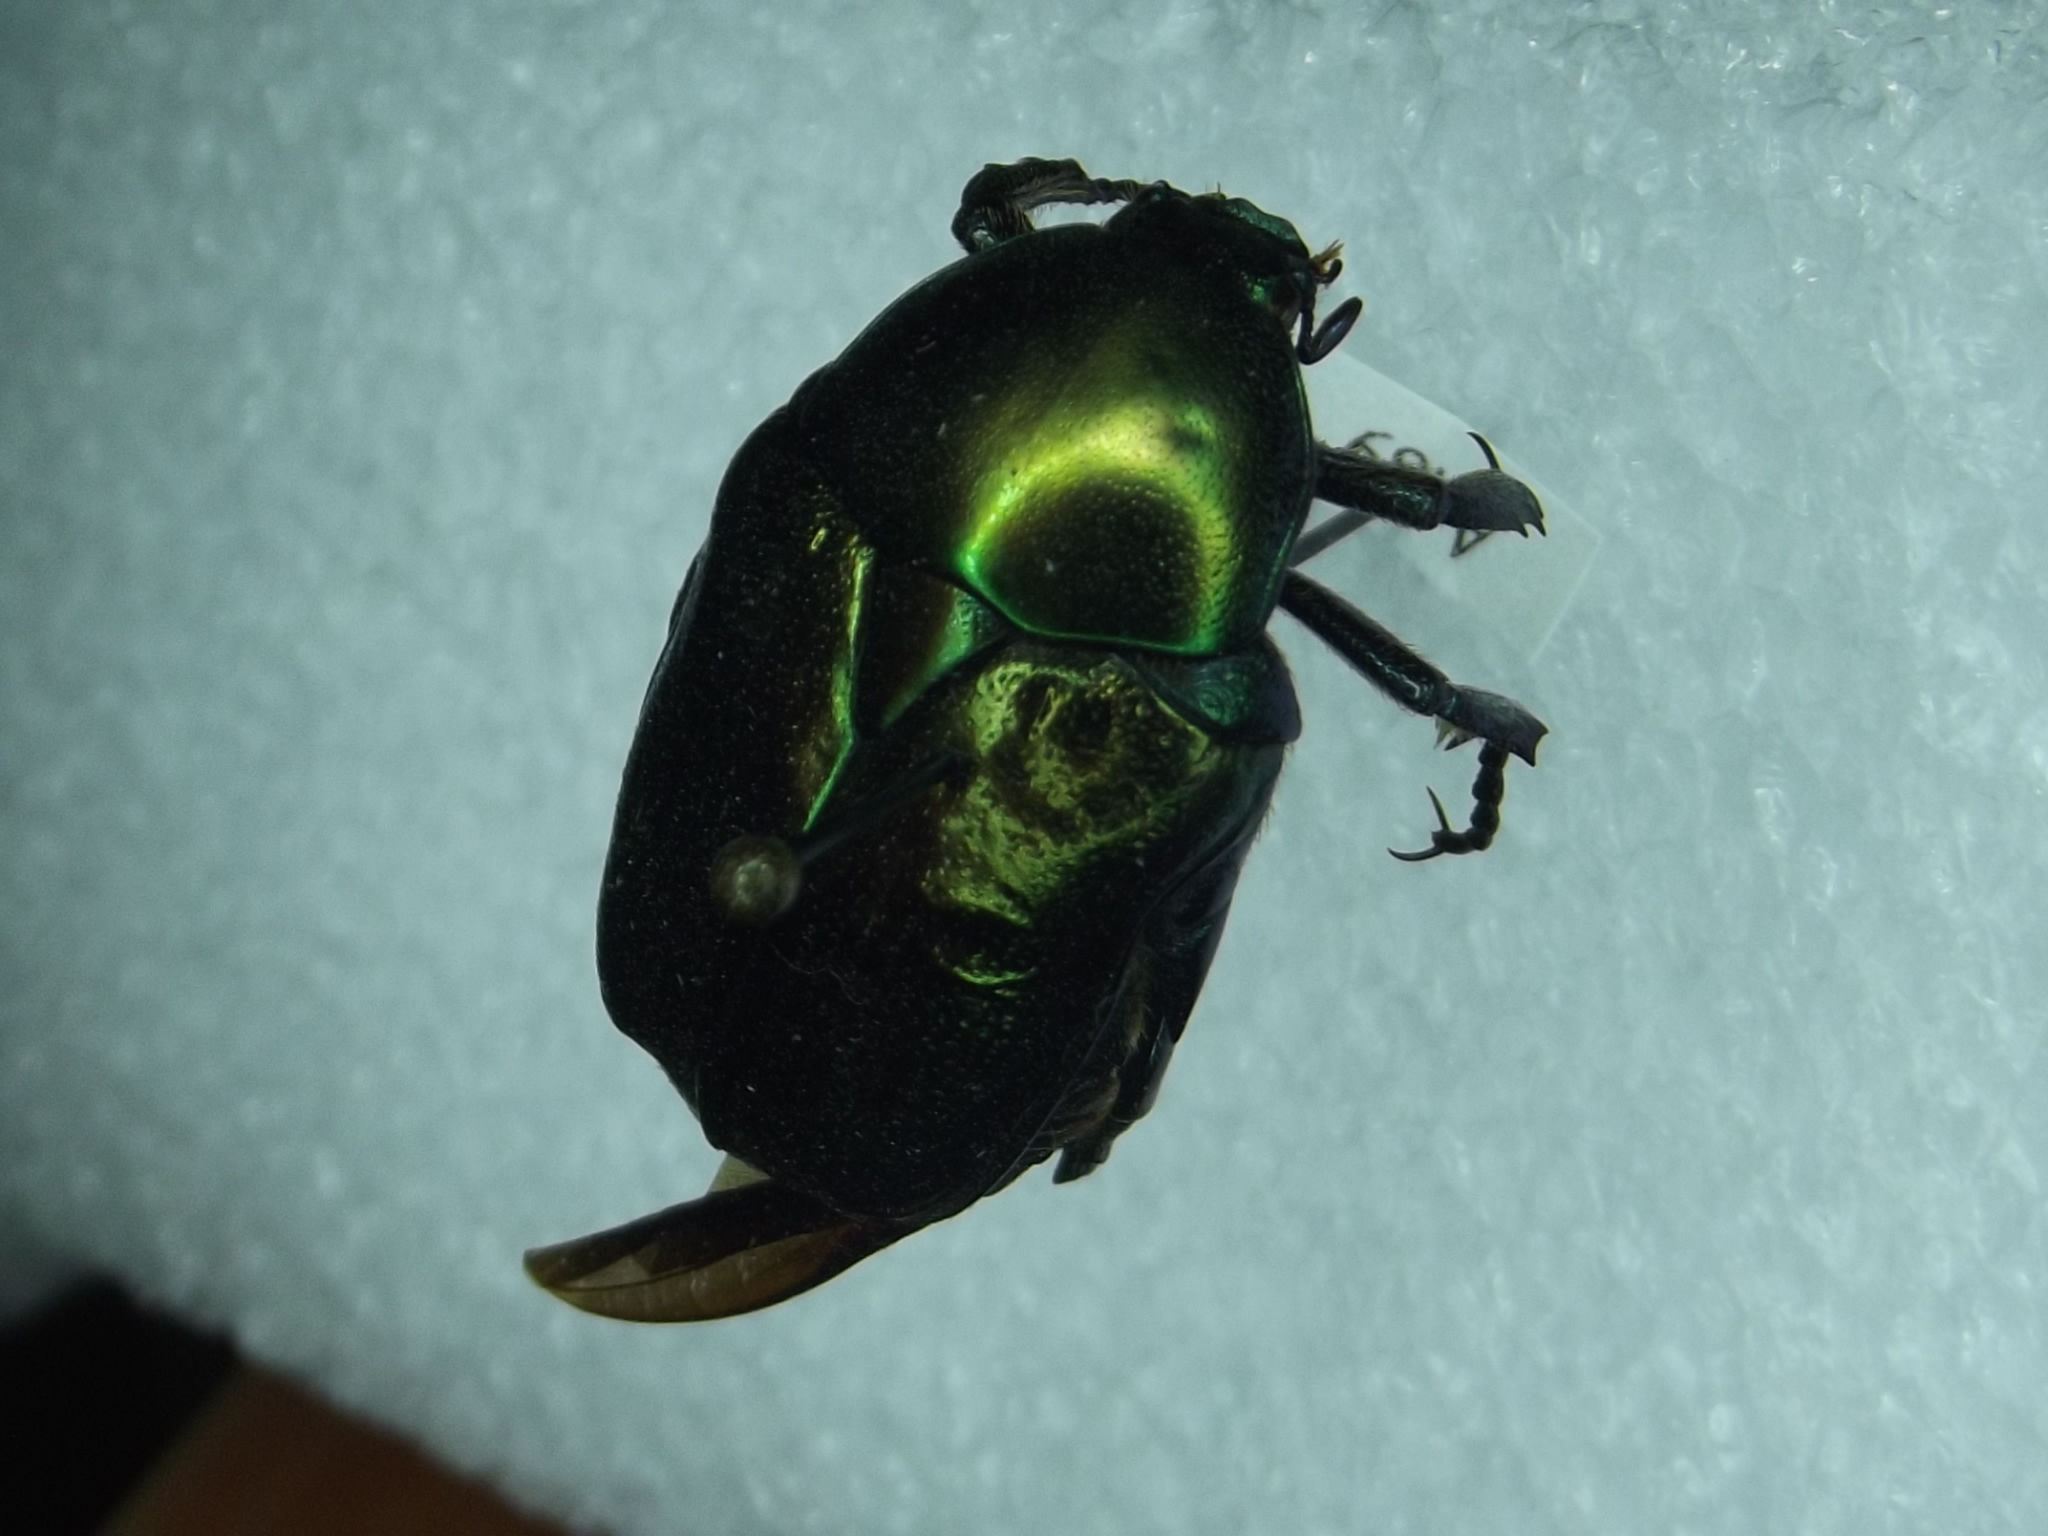Protaetia_angustata_angustata: (585, 116, 1555, 1205)
